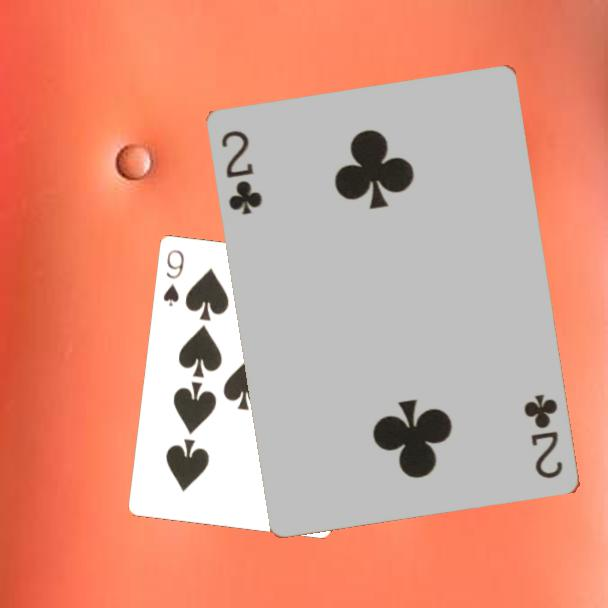c02: (218, 127, 266, 218), (521, 391, 566, 482)
s09: (160, 246, 187, 308)
